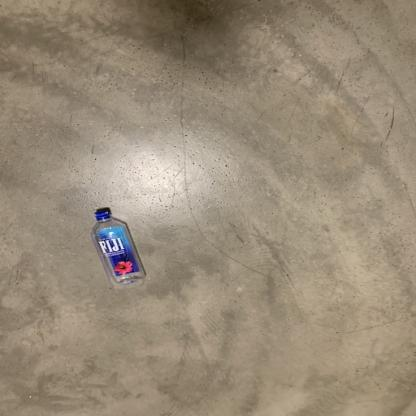trash: (90, 207, 148, 291)
